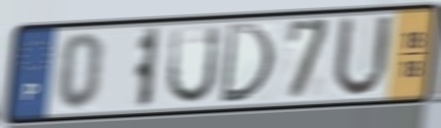0: (56, 31, 107, 113)
1: (135, 24, 163, 112)
7: (285, 18, 332, 104)
D: (216, 21, 278, 105)
U: (329, 13, 395, 102), (163, 23, 224, 107)
